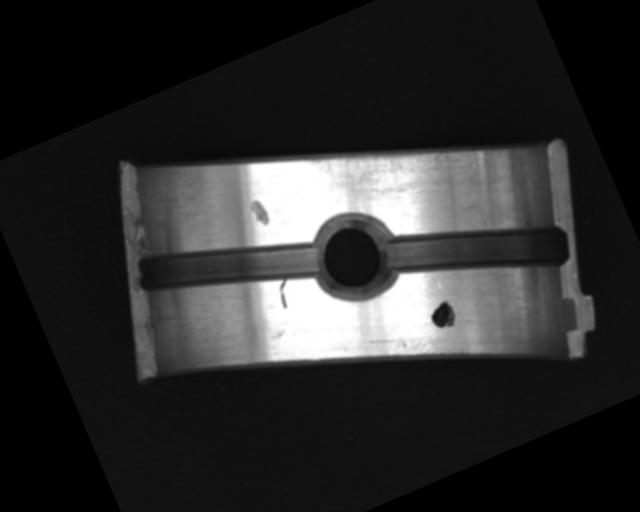blot: (425, 297, 461, 335)
bruise: (246, 195, 273, 230)
gap: (377, 178, 575, 326), (131, 194, 324, 338)
hole: (295, 200, 409, 312)
nick: (273, 277, 297, 309)
scratch: (301, 100, 466, 224)
